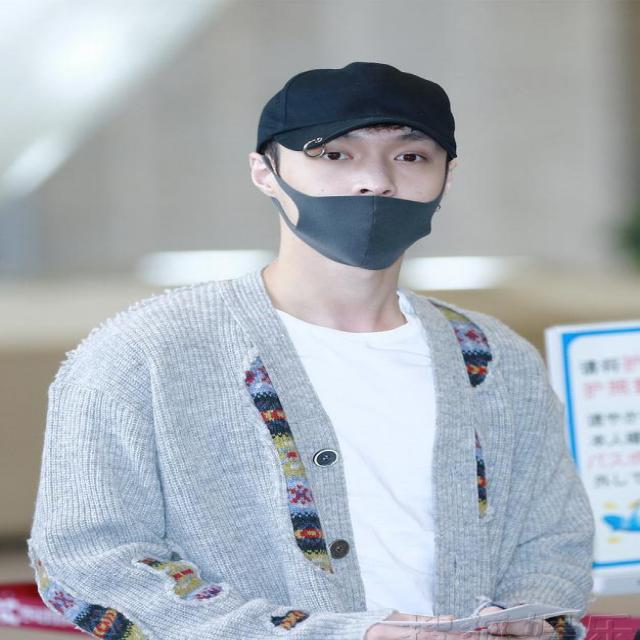mask: (280, 86, 444, 267)
